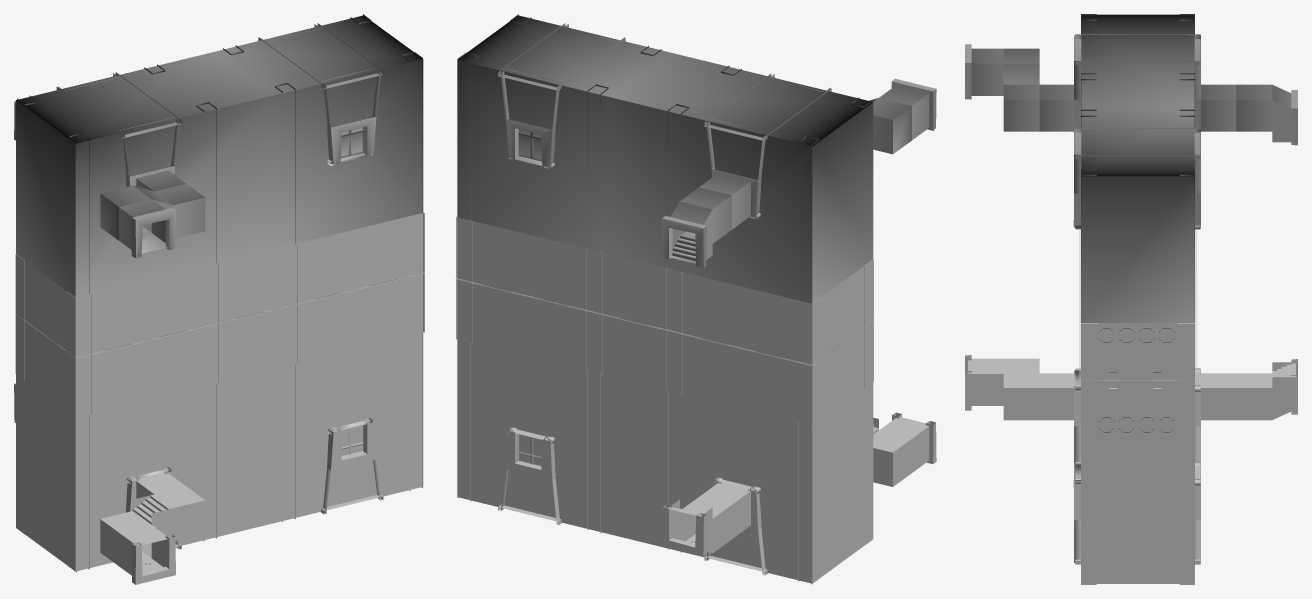
The model's file is office_connector_foyer.fbx.
3 renders of one model, left to right at view 1: azimuth 30°, elevation 25°; view 2: azimuth 150°, elevation 25°; view 3: azimuth 270°, elevation 25°, orthographic. The views are drawn at different scales.
Parts seen in each view (by area): view 1: walls, reflection, connector, pillars, corridor_inaccesible, DoorFrames, corridor_walls, door; view 2: walls, reflection, connector, pillars, corridor_inaccesible, DoorFrames, corridor_walls, door; view 3: walls, reflection, connector, pillars, corridor_inaccesible, corridor_walls, DoorFrames, Floor.
Boxes of the visible parts, x1,y1,x2,y2 form: walls: [16, 15, 423, 357]; reflection: [14, 272, 424, 584]; connector: [100, 170, 205, 253]; pillars: [15, 14, 424, 356]; corridor_inaccesible: [258, 23, 383, 165]; DoorFrames: [14, 101, 175, 258]; corridor_walls: [56, 72, 181, 186]; door: [341, 127, 363, 158]; walls: [457, 15, 873, 364]; reflection: [456, 278, 936, 584]; connector: [670, 85, 929, 263]; pillars: [456, 14, 873, 364]; corridor_inaccesible: [498, 23, 625, 169]; DoorFrames: [662, 78, 936, 267]; corridor_walls: [704, 73, 831, 219]; door: [518, 129, 541, 161]; walls: [1081, 14, 1194, 379]; reflection: [965, 355, 1297, 584]; connector: [971, 48, 1291, 142]; pillars: [1081, 14, 1194, 380]; corridor_inaccesible: [1073, 128, 1200, 229]; corridor_walls: [1073, 34, 1200, 132]; DoorFrames: [965, 44, 1297, 145]; Floor: [1079, 229, 1196, 380].
Size of what is drawn, in the model's own units: 4929 by 5778 by 4249.
